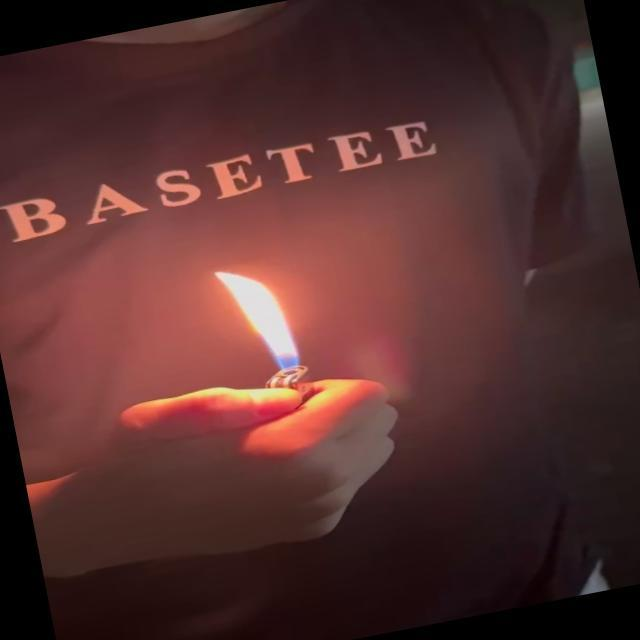Fire: (212, 254, 320, 388)
